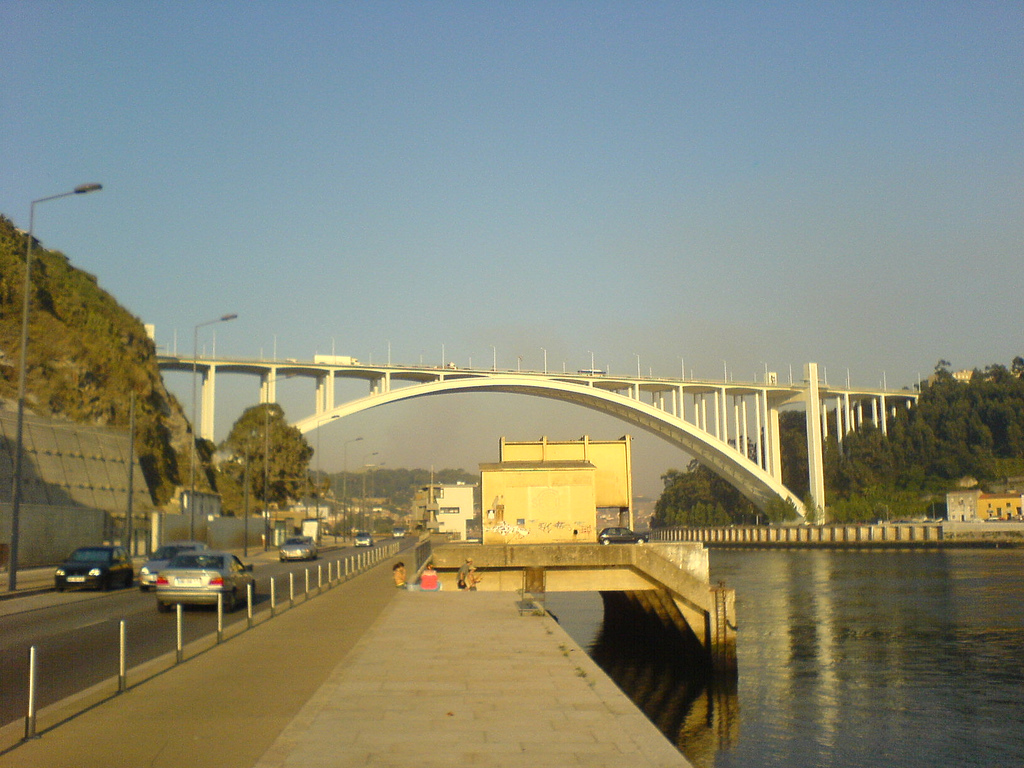arrabida: (137, 321, 924, 527)
